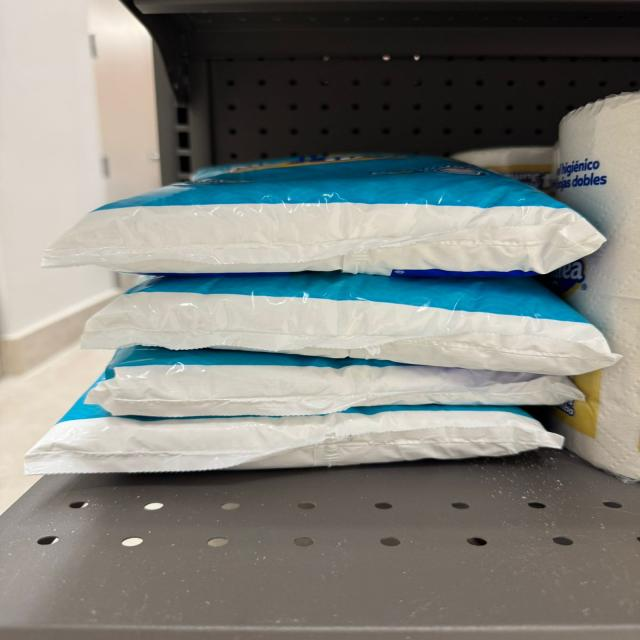DETERGENTE AZALEA MULTIUSOS 800G: (41, 146, 610, 278), (35, 280, 628, 381), (33, 362, 620, 422), (21, 415, 594, 472)
